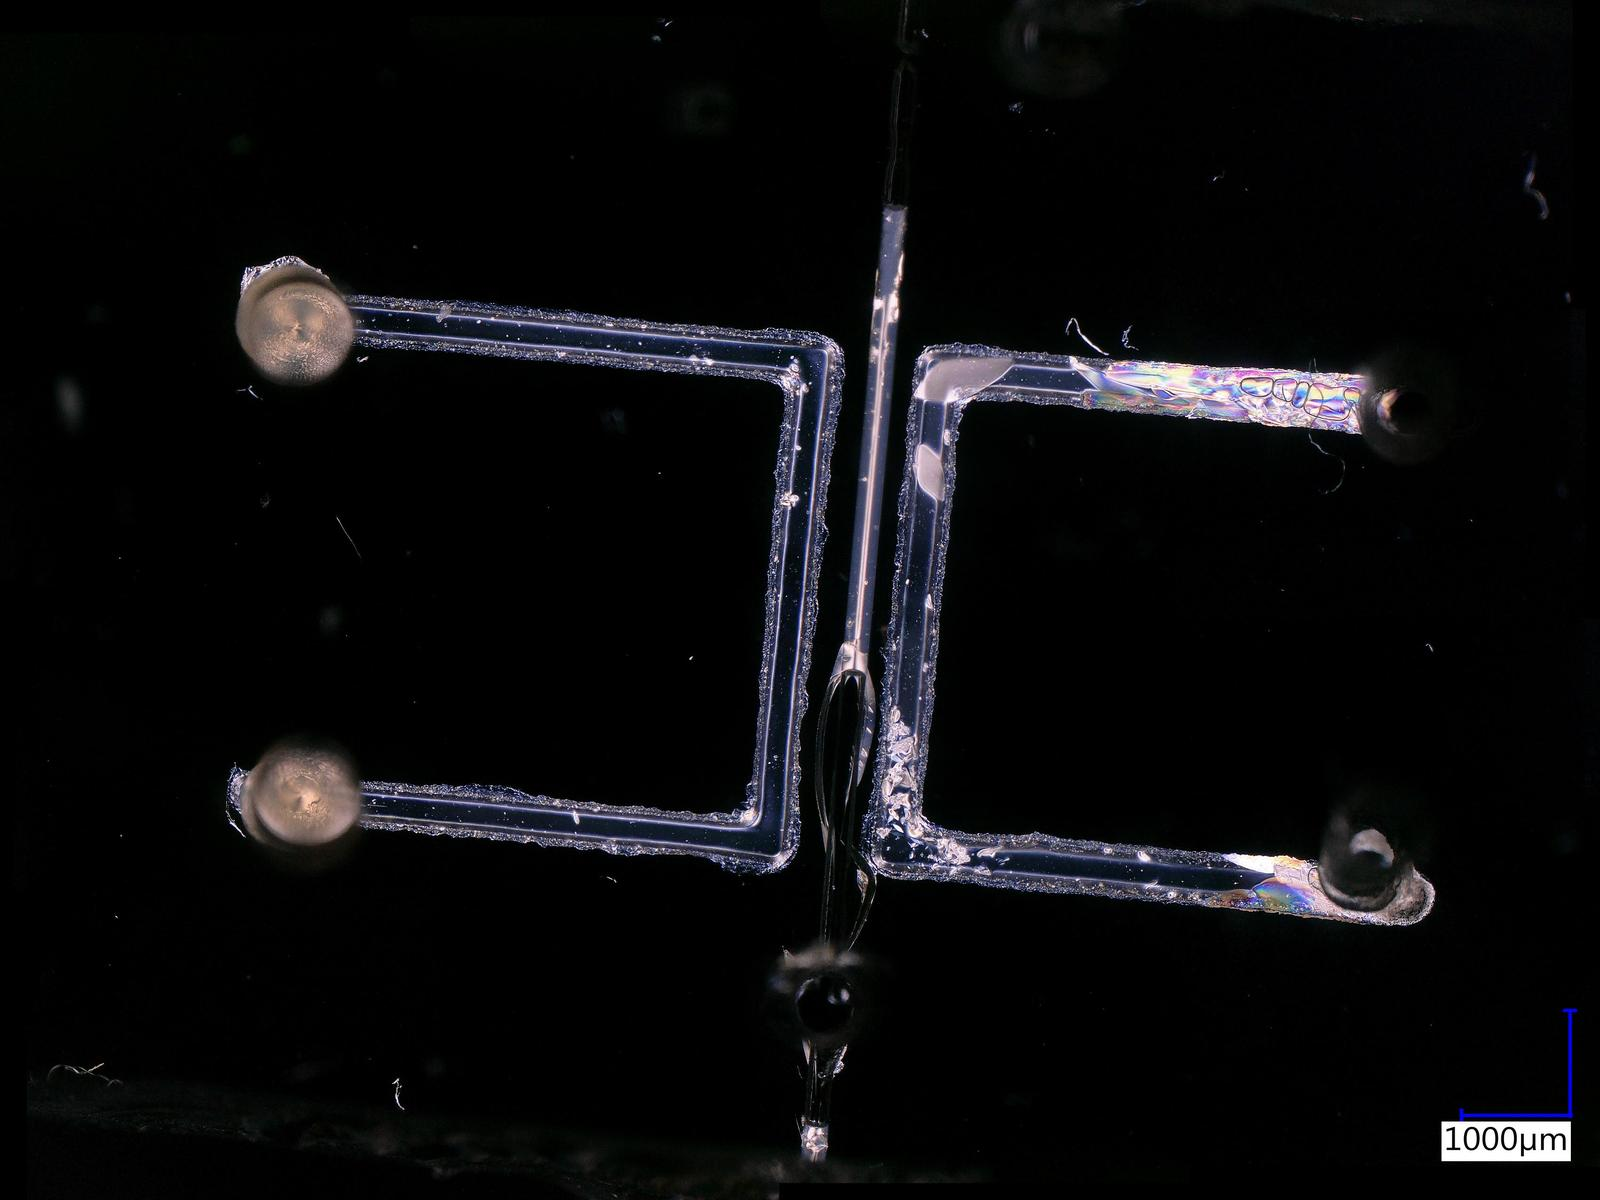sediment: (888, 710, 913, 823), (1390, 882, 1436, 921), (934, 836, 970, 863)
